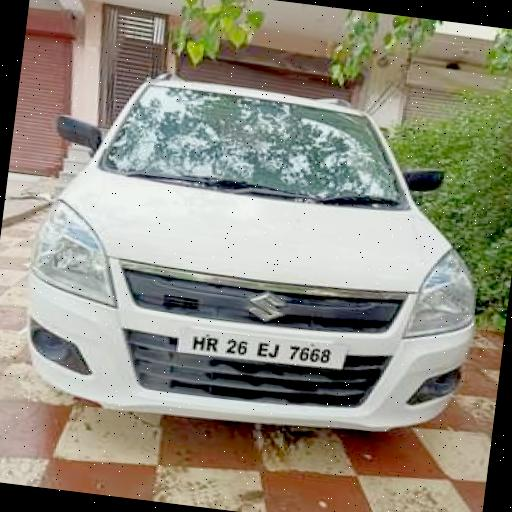license_plate`: (176, 326, 346, 368)
